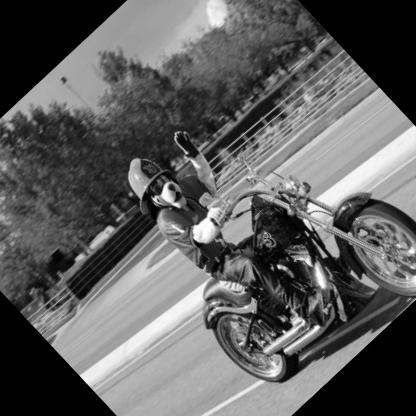moto: (138, 107, 416, 416)
